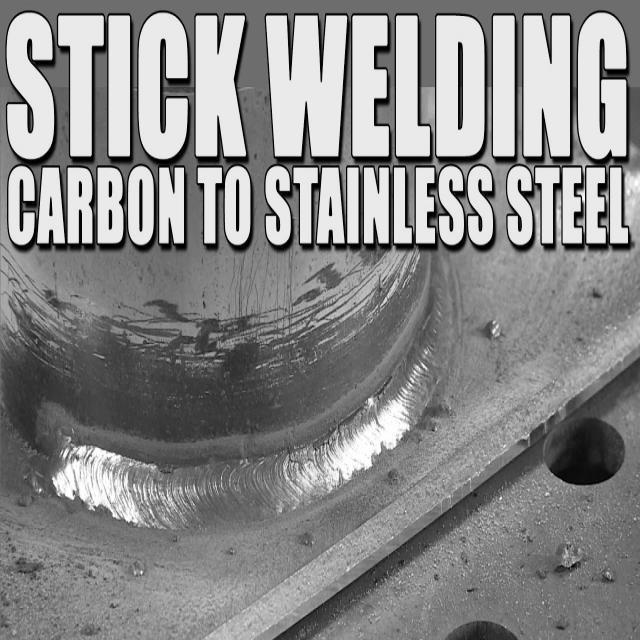Good Welding: (49, 428, 335, 522), (352, 338, 454, 478)
